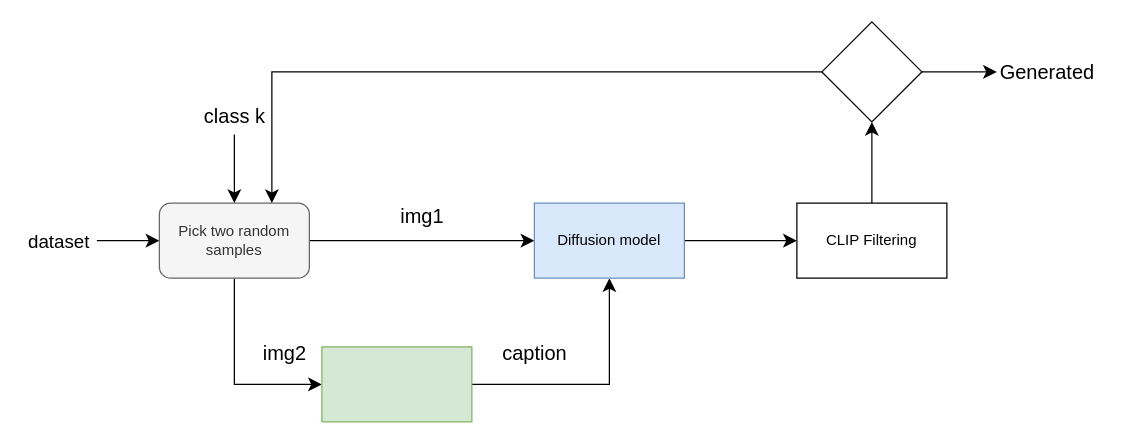
Some shapes in this 1130 by 444 pixel diagram are drawn without their labels. Each missing label, with the centre of its shape:
Llava captioning model: (x=396, y=384)
Stop criterion: (x=871, y=71)
